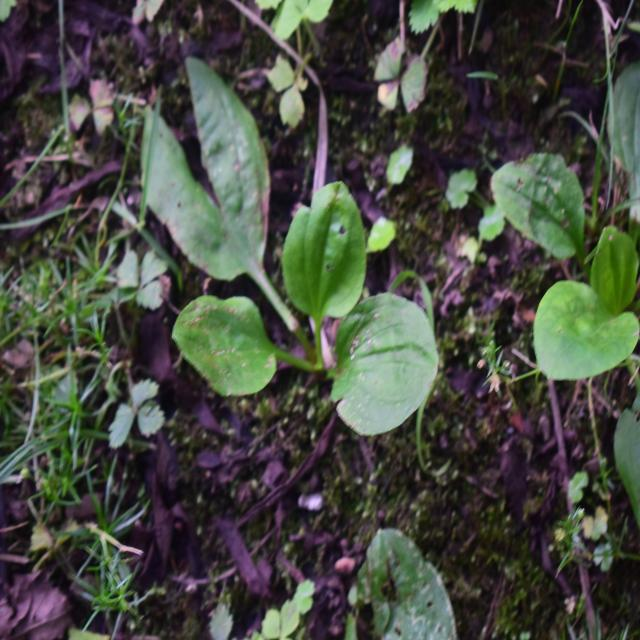plantain: (187, 148, 430, 460)
